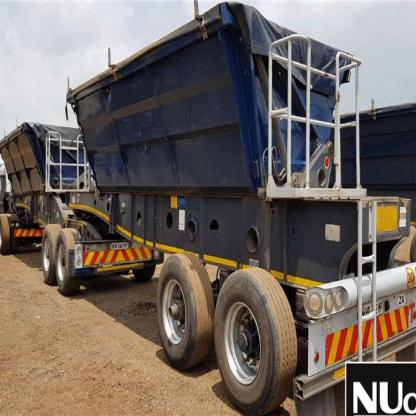dump_truck: (6, 0, 408, 413)
